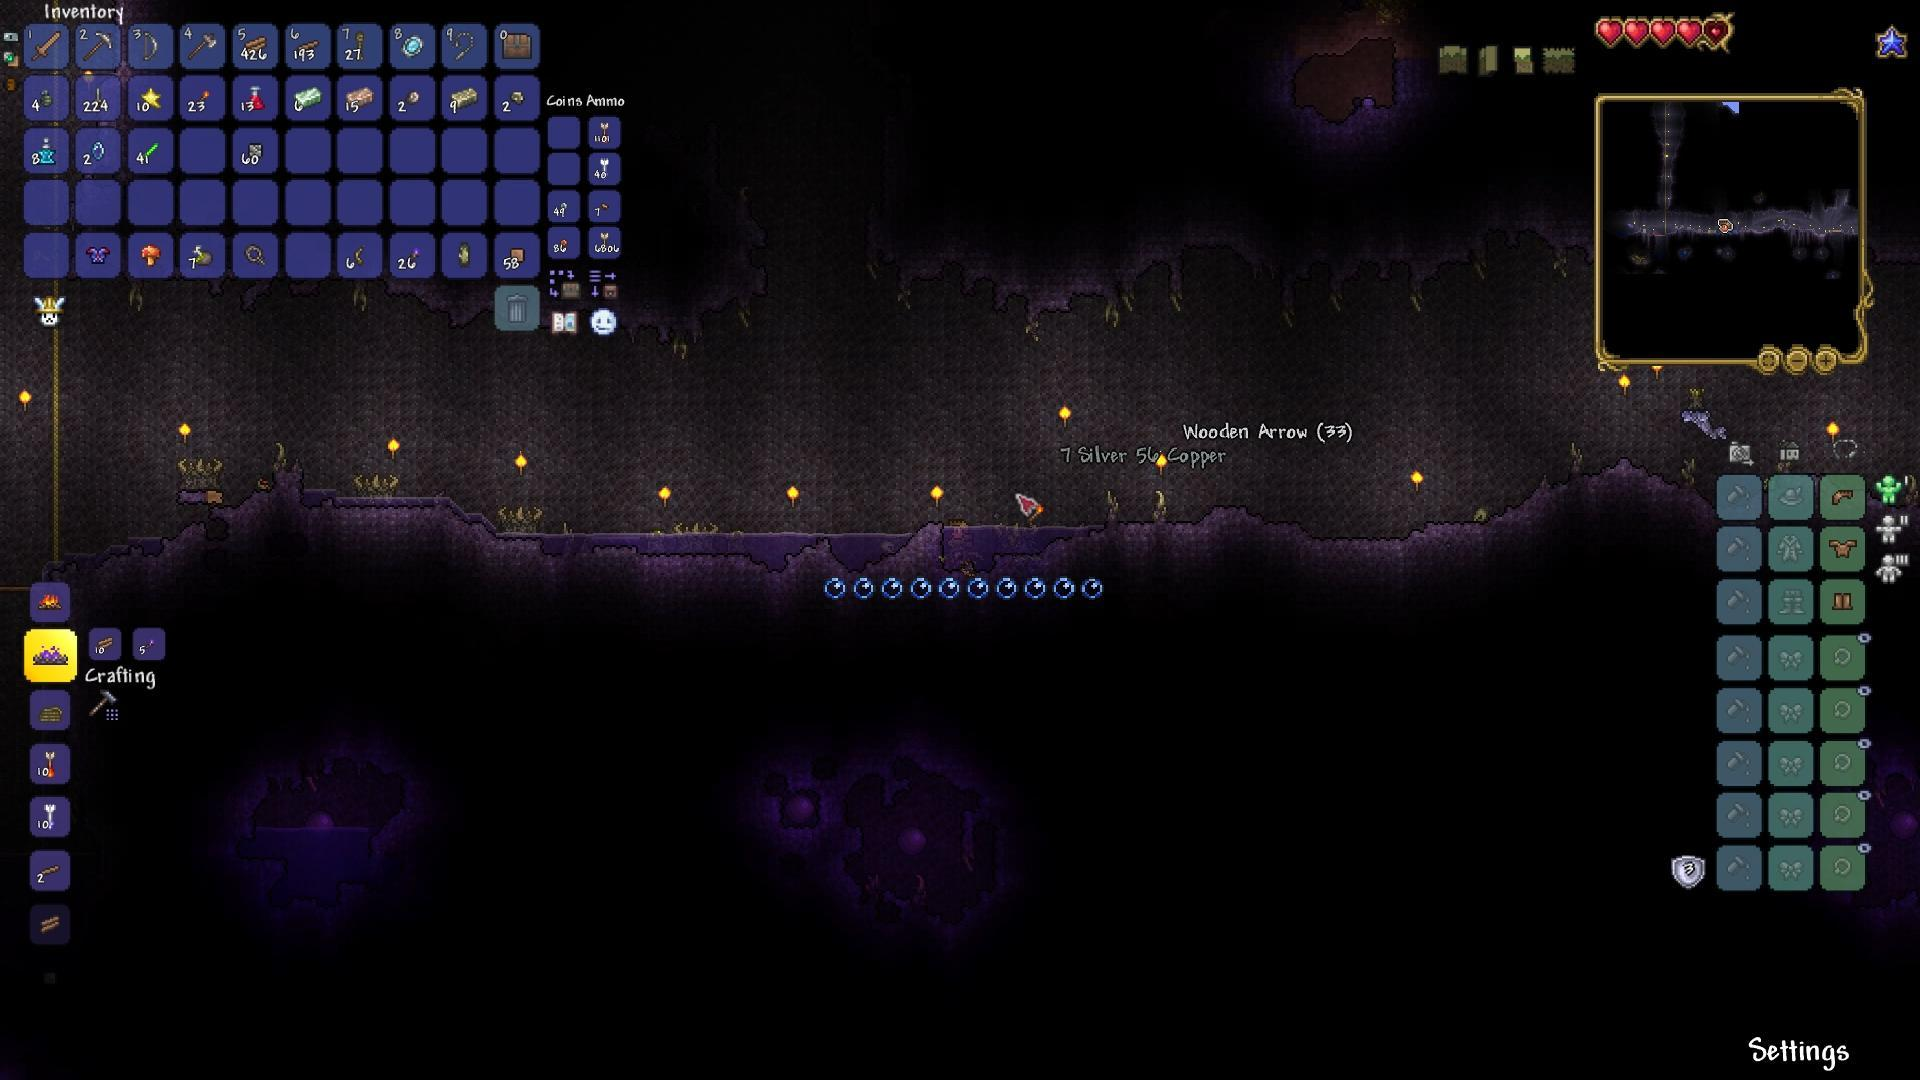glowstick: (140, 136, 161, 165)
potion: (245, 80, 265, 112)
recallP: (37, 135, 58, 165)
